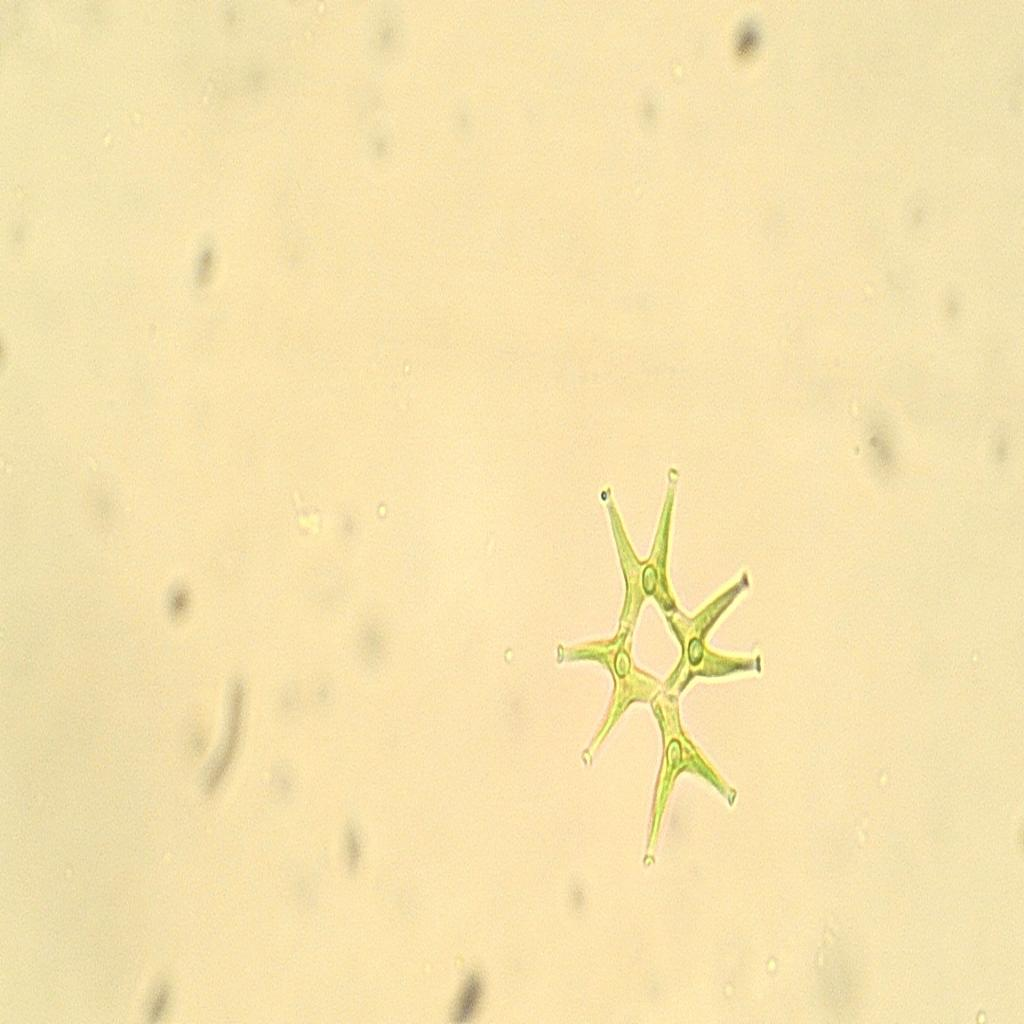Pediastrum_CT: (552, 433, 774, 914)
